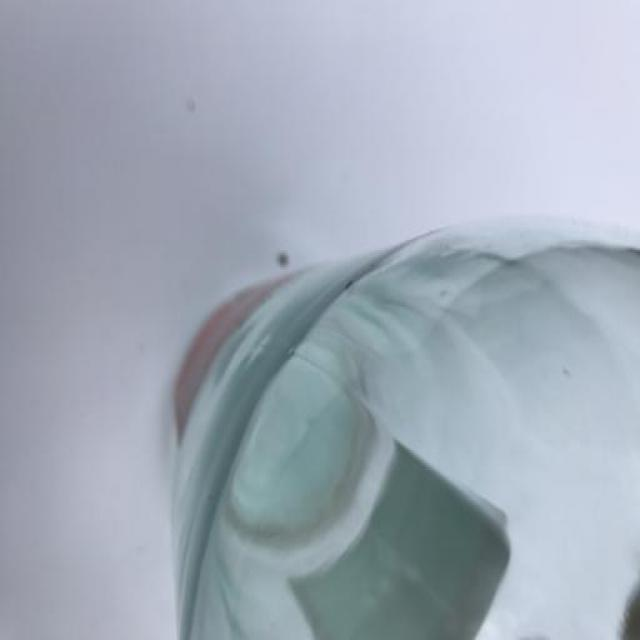glass: (169, 221, 640, 640)
